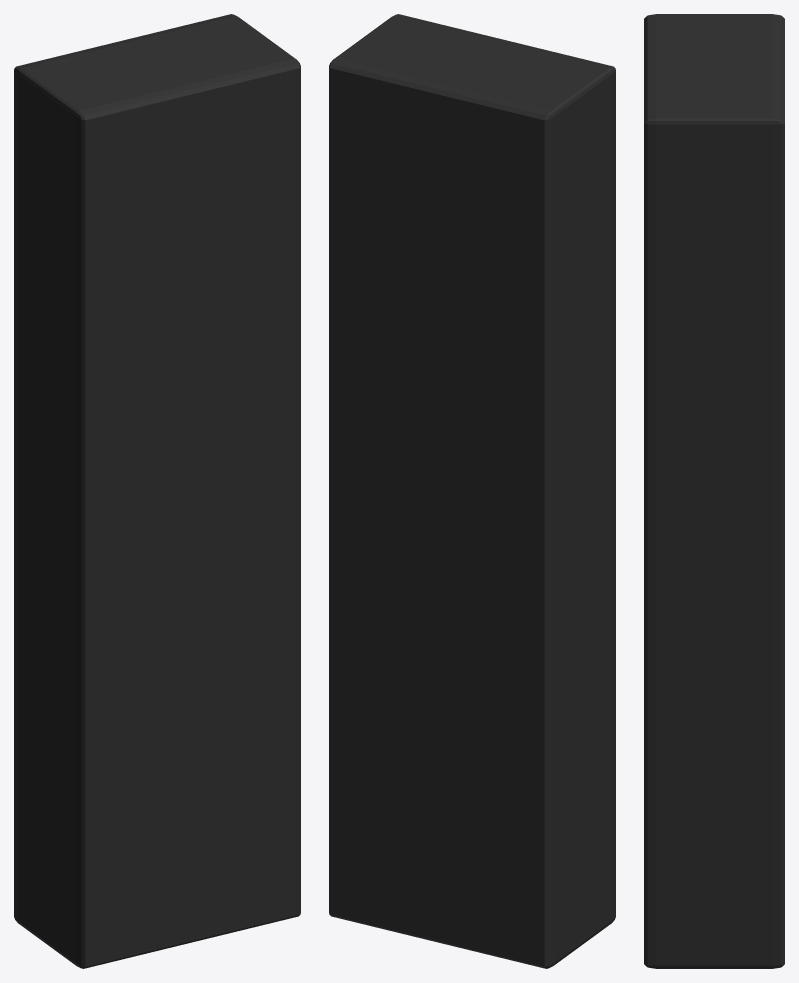
Rendered from reskined-pillar.fbx.
3 renders of one model, left to right at view 1: azimuth 30°, elevation 25°; view 2: azimuth 150°, elevation 25°; view 3: azimuth 270°, elevation 25°, orthographic.
Parts seen in each view (by area): view 1: Pillar 1; view 2: Pillar 1; view 3: Pillar 1.
Boxes of the visible parts, bbox=[...] form: Pillar 1: bbox=[14, 14, 300, 968]; Pillar 1: bbox=[329, 14, 615, 968]; Pillar 1: bbox=[644, 14, 784, 968].
Size of the model in its own units: 114 by 420 by 63.13.
